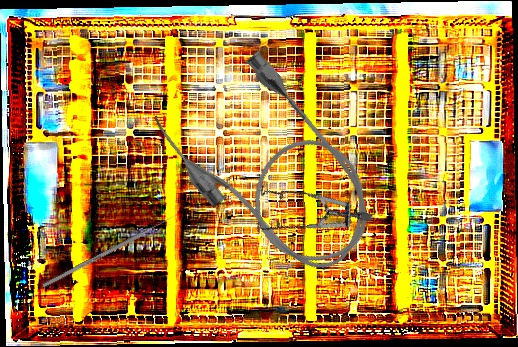Cannula: (143, 37, 399, 302)
Pusher: (41, 212, 179, 289)
Speculum: (238, 151, 375, 283)
